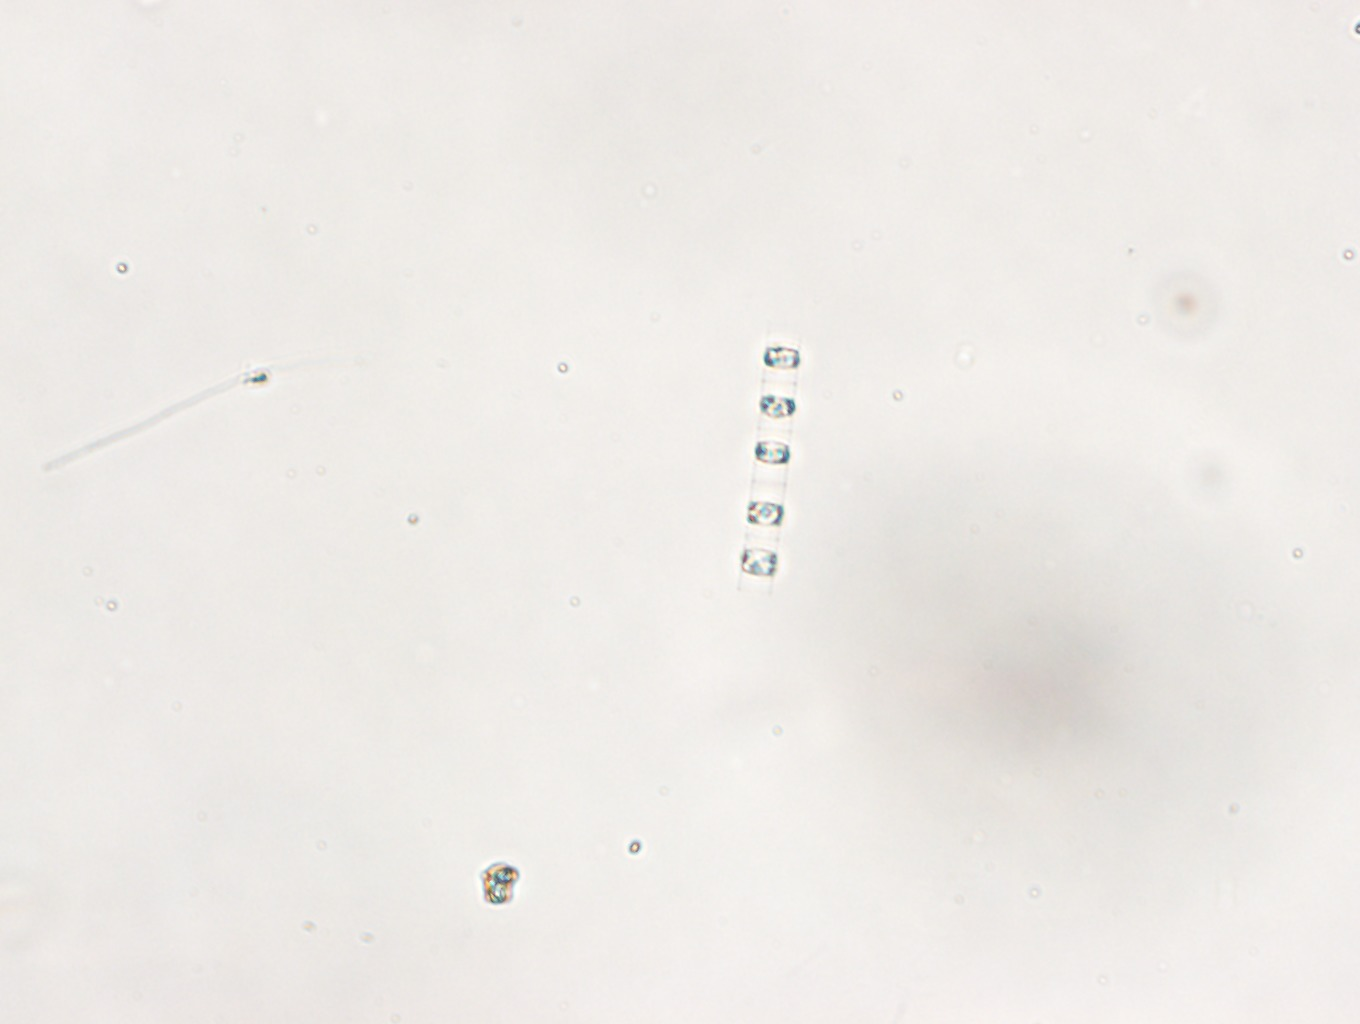skeletonema: (740, 322, 801, 592)
